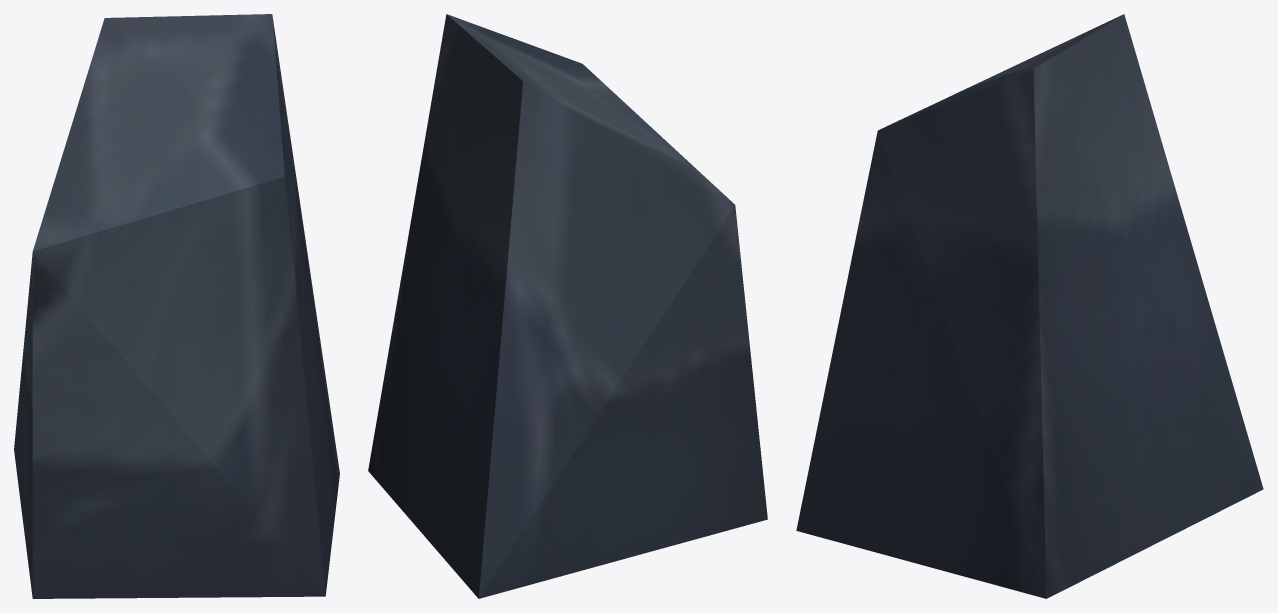
File: Area_12_19.fbx
3 views of the same model, side by side, from view 1: azimuth 30°, elevation 25°; view 2: azimuth 150°, elevation 25°; view 3: azimuth 270°, elevation 25° (orthographic). The views are drawn at different scales.
Parts seen in each view (by area): view 1: Area_12_19; view 2: Area_12_19; view 3: Area_12_19.
Part boxes in pixels (x1=…): Area_12_19: x1=14, y1=14, x2=339, y2=598; Area_12_19: x1=368, y1=14, x2=767, y2=598; Area_12_19: x1=796, y1=14, x2=1263, y2=598.
Bounding box in the file's own units: 475 × 610 × 524.
